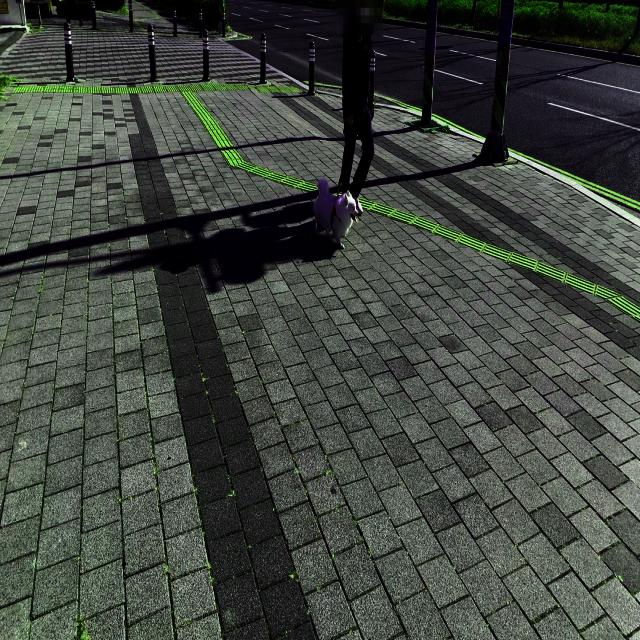Leashed_Dog: (313, 98, 366, 250)
